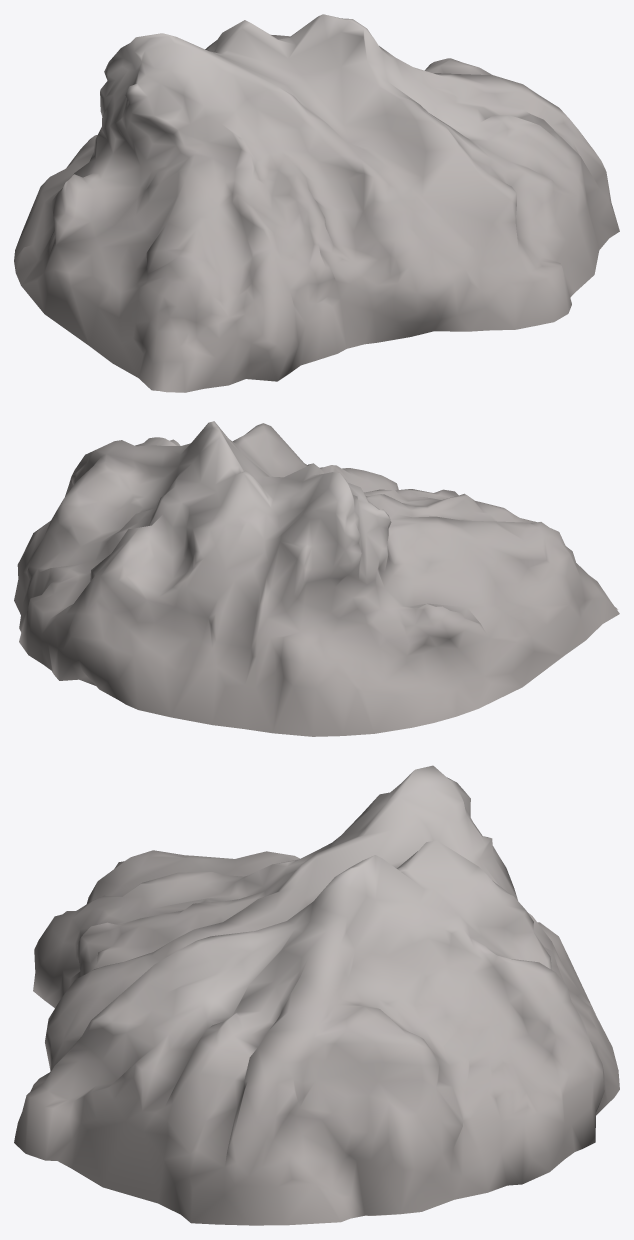
The model's file is mountain_005.glb.
The picture shows the model from 3 angles, top to bottom: view 1: azimuth 30°, elevation 25°; view 2: azimuth 150°, elevation 25°; view 3: azimuth 270°, elevation 25°; orthographic projection. The views are drawn at different scales.
Visible parts, largest first — view 1: mountain_005; view 2: mountain_005; view 3: mountain_005.
Part boxes in pixels (bbox=[...]): mountain_005: bbox=[14, 14, 619, 392]; mountain_005: bbox=[14, 421, 619, 736]; mountain_005: bbox=[14, 765, 619, 1225].
Size of the model in its own units: 19.41 by 7.66 by 16.86.
Materials: 1 (1 with a texture image).
